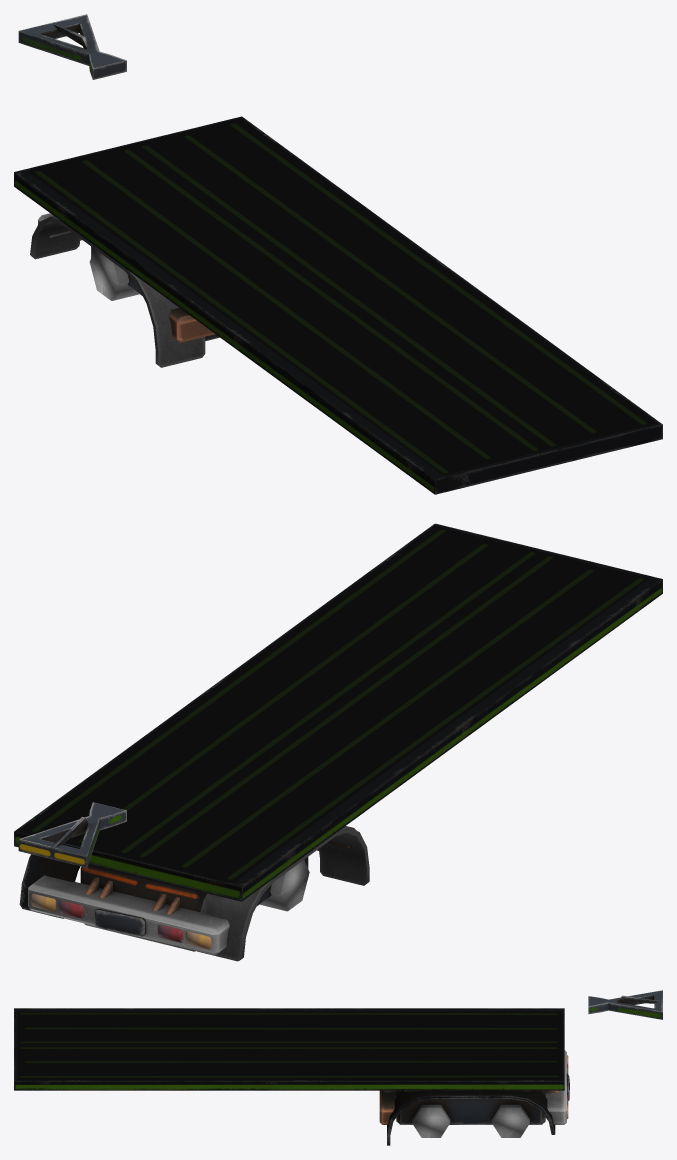
File: trailerbackContainer.fbx
The picture shows the model from 3 angles, top to bottom: view 1: azimuth 30°, elevation 25°; view 2: azimuth 150°, elevation 25°; view 3: azimuth 270°, elevation 25°; orthographic projection. The views are drawn at different scales.
Visible parts, largest first — view 1: platform.001, wheelhub, connector; view 2: platform.001, wheelhub, connector; view 3: platform.001, wheelhub, connector.
Boxes of the visible parts, x1,y1,x2,y2 form: platform.001: (14,116,662,494); wheelhub: (30,213,219,367); connector: (18,14,126,79); platform.001: (14,523,662,901); wheelhub: (19,826,369,961); connector: (18,802,126,867); platform.001: (14,1008,564,1091); wheelhub: (379,1050,569,1145); connector: (588,990,662,1019).
Bounding box in the file's own units: 261 × 196 × 976.
